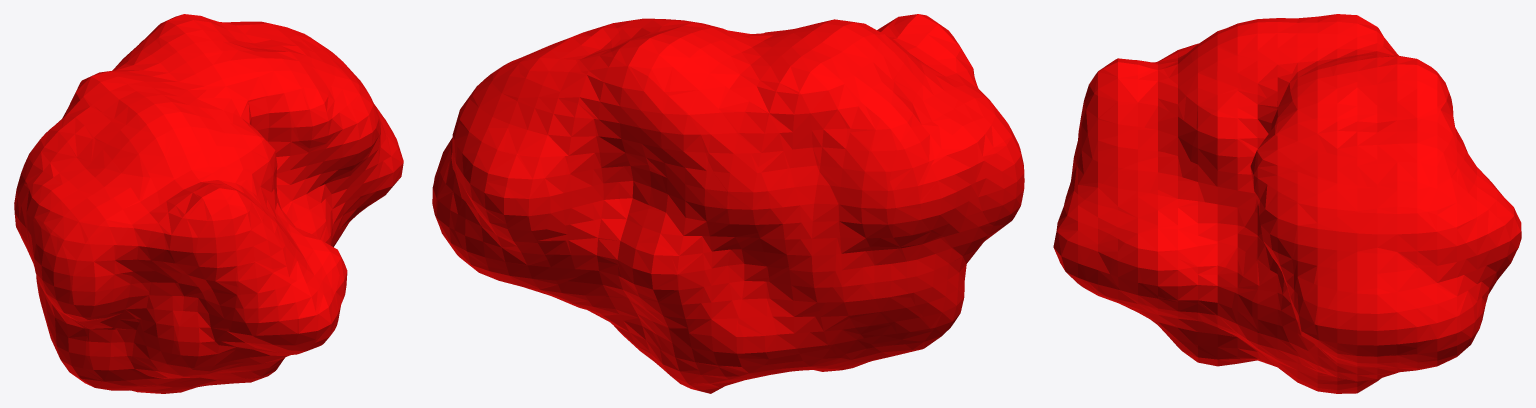
Rendered from yrfG_coarse.dae.
3 views of the same model, side by side, from view 1: azimuth 30°, elevation 25°; view 2: azimuth 150°, elevation 25°; view 3: azimuth 270°, elevation 25° (orthographic). The views are drawn at different scales.
Parts seen in each view (by area): view 1: yrfG; view 2: yrfG; view 3: yrfG.
Boxes of the visible parts, left/top/right/bottom form: yrfG: left=14, top=14, right=403, bottom=393; yrfG: left=432, top=14, right=1024, bottom=393; yrfG: left=1053, top=14, right=1521, bottom=393.
Bounding box in the file's own units: 58.16 × 41.52 × 52.05.
